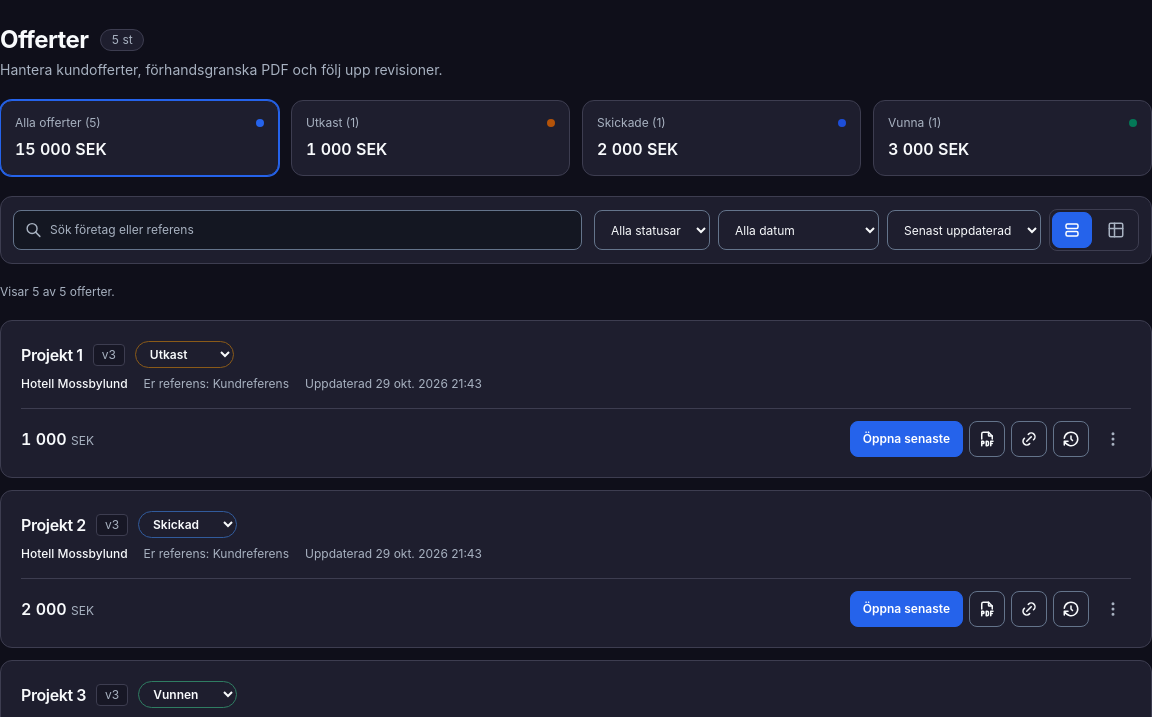
Test case: Offerter redesign › shows compact project headings, all status totals, and keeps layout and filters across view switches
This screenshot has width=1152, height=717.
Click the button "Skickade (1) 2 000 SEK".
click(623, 122)  # box [582,100,861,176]
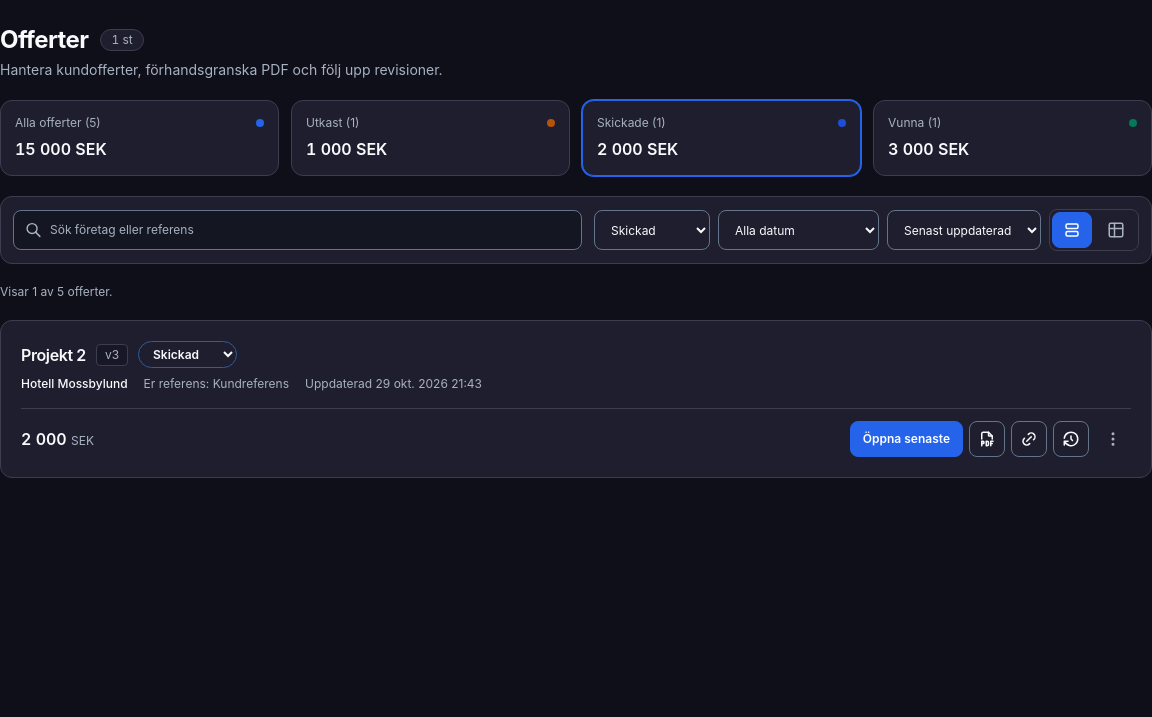
Expected: the dropdown named "Filtrera status" shows "Skickad", [594,210,710,250]
Click the button named "Tabellvy".
click(1116, 230)  # box [1096,212,1136,248]
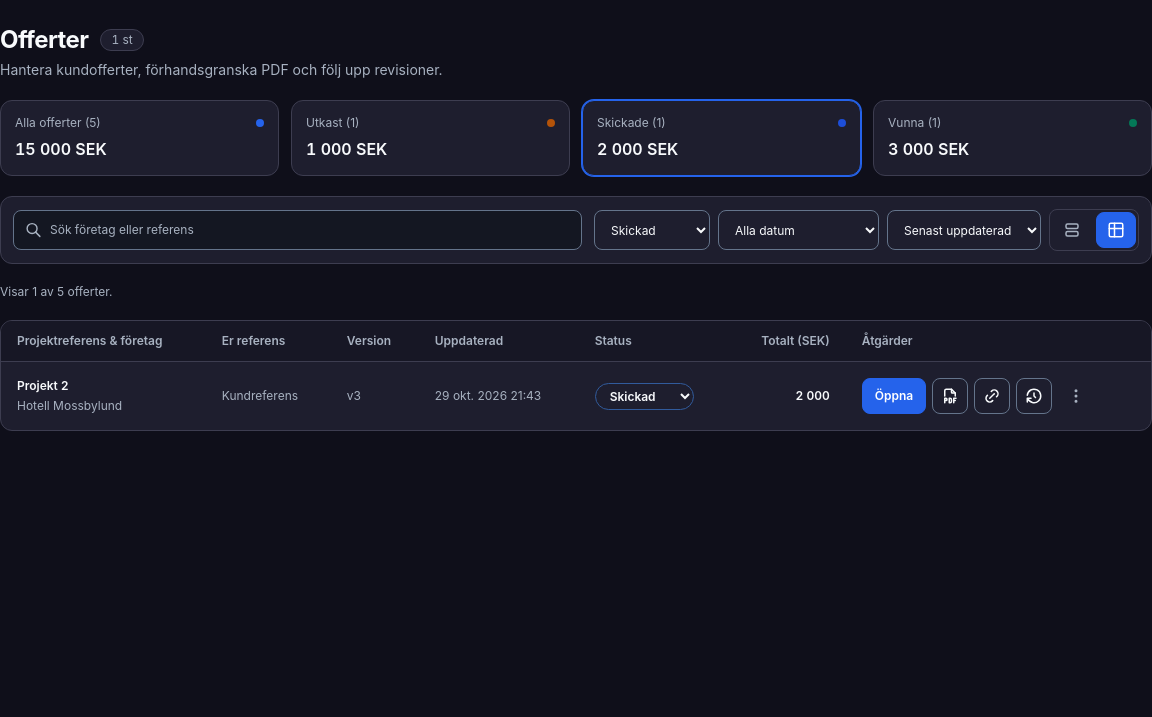
Expected: the heading "Projekt 1" does not show "Projekt 1"
Expected: the table shows "Projekt 2", [17,378,68,393]
Select "Arkiverad" in the dropdown named "Filtrera status" at coordinates (652, 230), box [594,210,710,250]
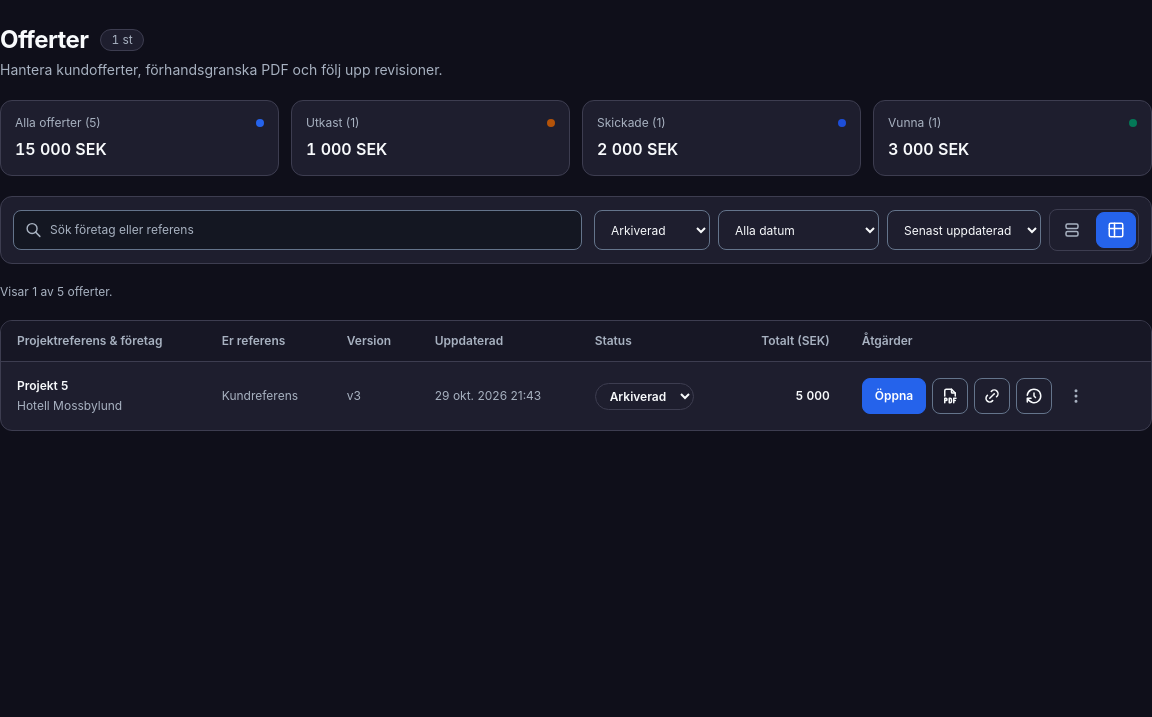
Expected: the table shows "Projekt 5", [17,378,68,393]
Click the button named "Kortvy".
click(1072, 230)  # box [1052,212,1092,248]
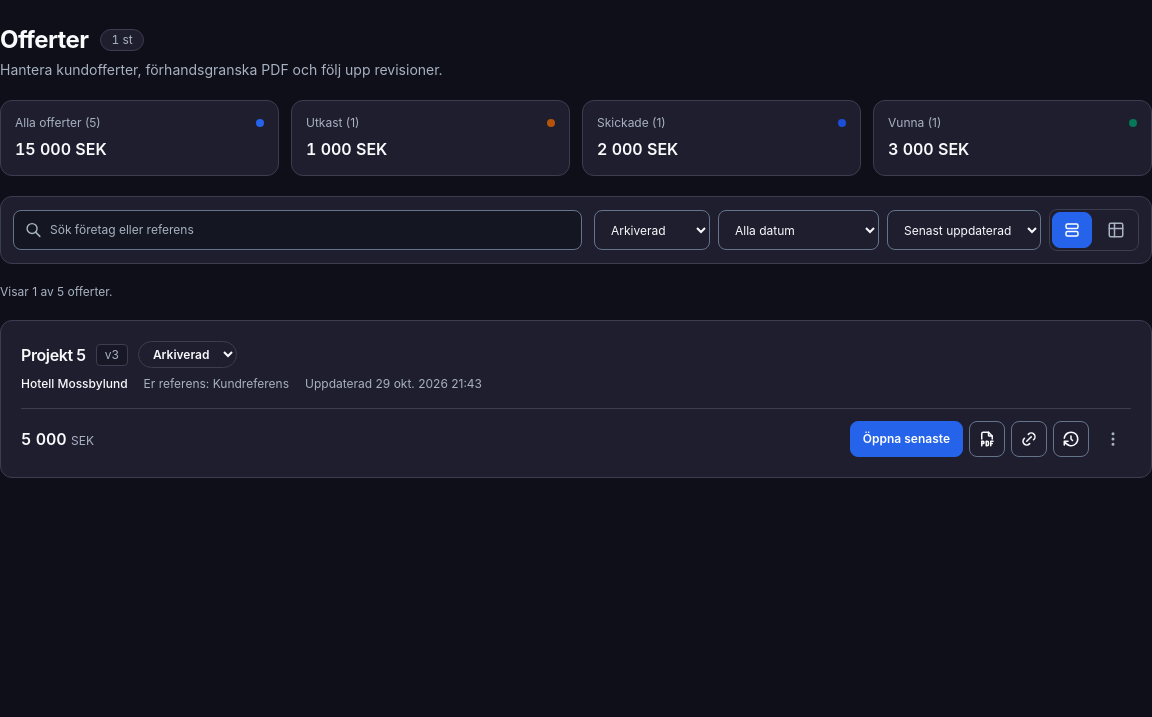
Expected: the element named "Projekt 5" shows "Projekt 5", [21,344,86,364]
